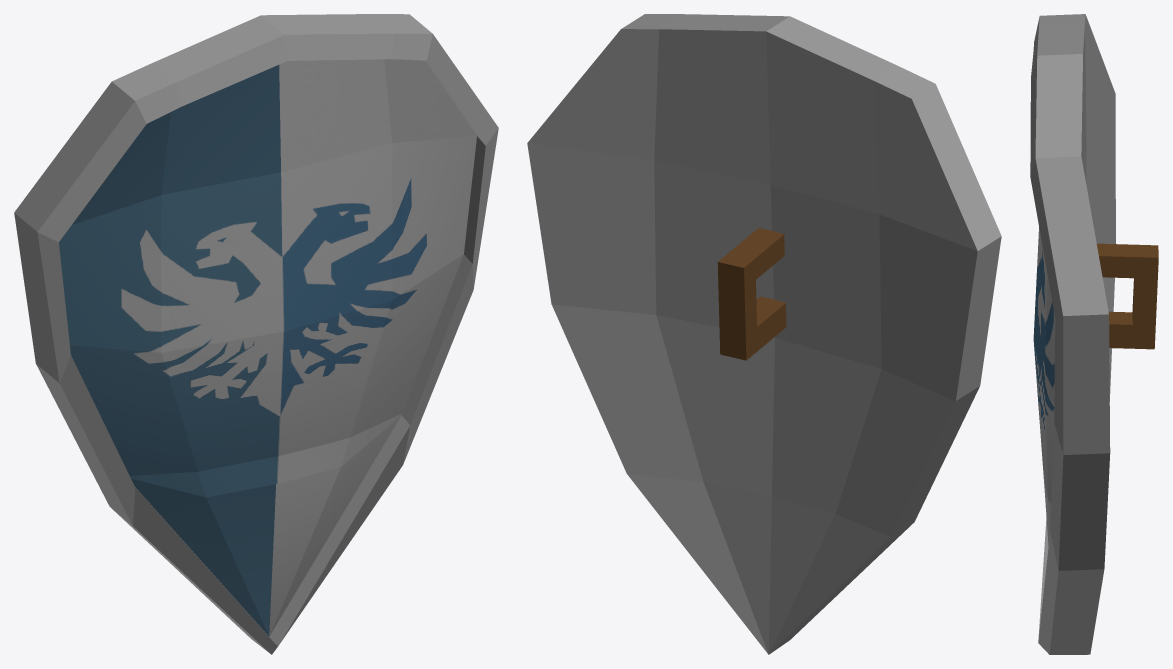
Rendered from Schild.fbx.
3 views of the same model, side by side, from view 1: azimuth 30°, elevation 25°; view 2: azimuth 150°, elevation 25°; view 3: azimuth 270°, elevation 25° (orthographic). The views are drawn at different scales.
Parts seen in each view (by area): view 1: Schield; view 2: Schield, Handvat; view 3: Schield, Handvat.
Part boxes in pixels (x1,y1,x2,y2): Schield: [14, 14, 498, 654]; Schield: [527, 14, 1001, 654]; Handvat: [717, 228, 786, 360]; Schield: [1030, 14, 1115, 654]; Handvat: [1097, 243, 1158, 349].
Size of the model in its own units: 66.88 by 87.2 by 16.82.
Materials: 4 (2 with a texture image).
